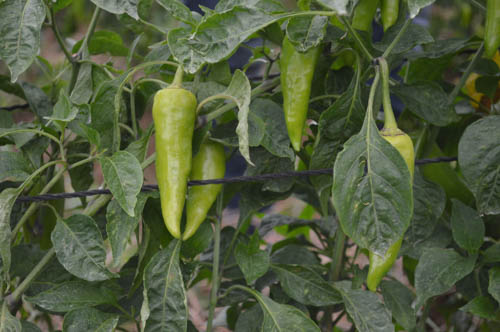ChiliPepper: (364, 132, 412, 285), (152, 90, 193, 241), (279, 31, 319, 148), (185, 146, 222, 237)
